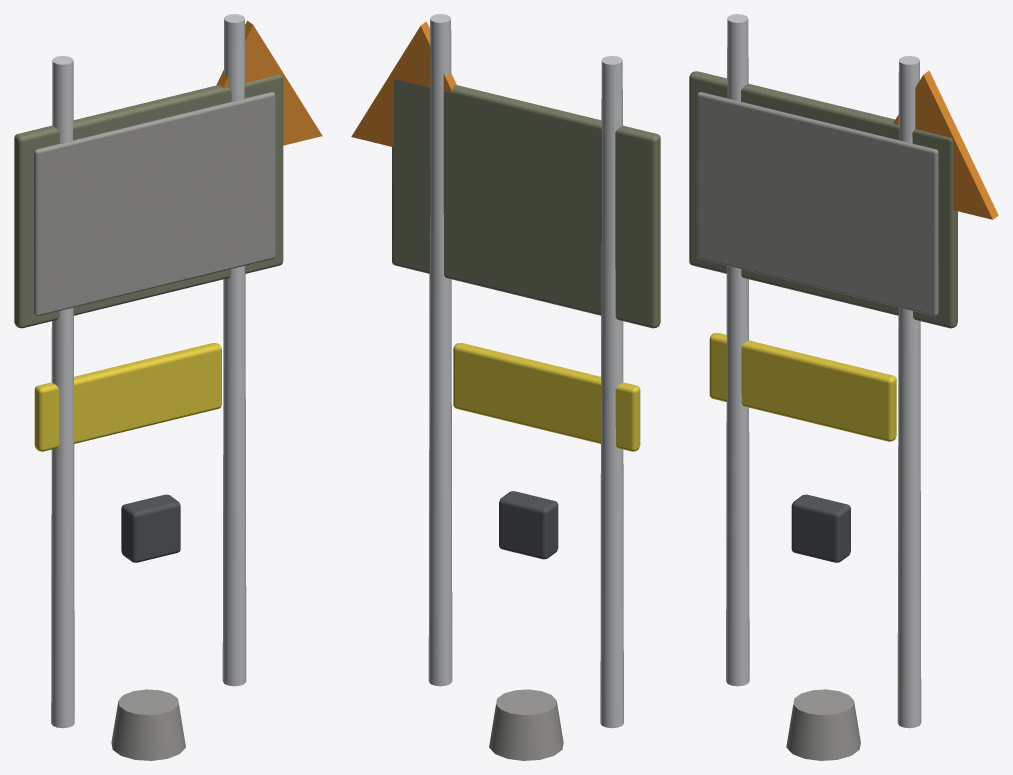
File: battle-royale-town-and-airfield-road-sign-post-c45b9b7c.glb
3 renders of one model, left to right at view 1: azimuth 30°, elevation 25°; view 2: azimuth 150°, elevation 25°; view 3: azimuth 330°, elevation 25°, orthographic.
Parts seen in each view (by area): view 1: road-sign-post; view 2: road-sign-post; view 3: road-sign-post.
Boxes of the visible parts, x1,y1,x2,y2 form: road-sign-post: (14, 14, 322, 760); road-sign-post: (351, 14, 660, 760); road-sign-post: (689, 14, 998, 760).
Size of the model in its own units: 1.49 by 3.3 by 0.3201.
Materials: 6 (1 with a texture image).
